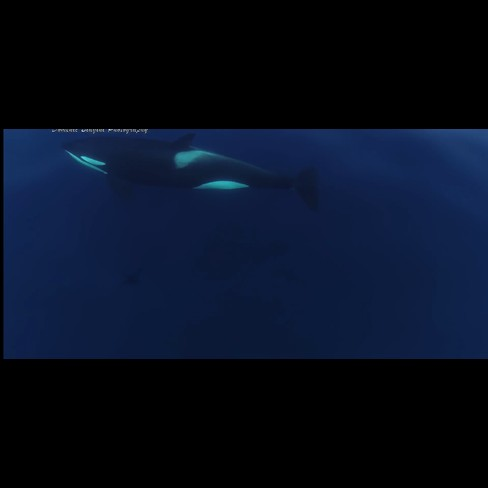orca: (56, 131, 332, 213)
